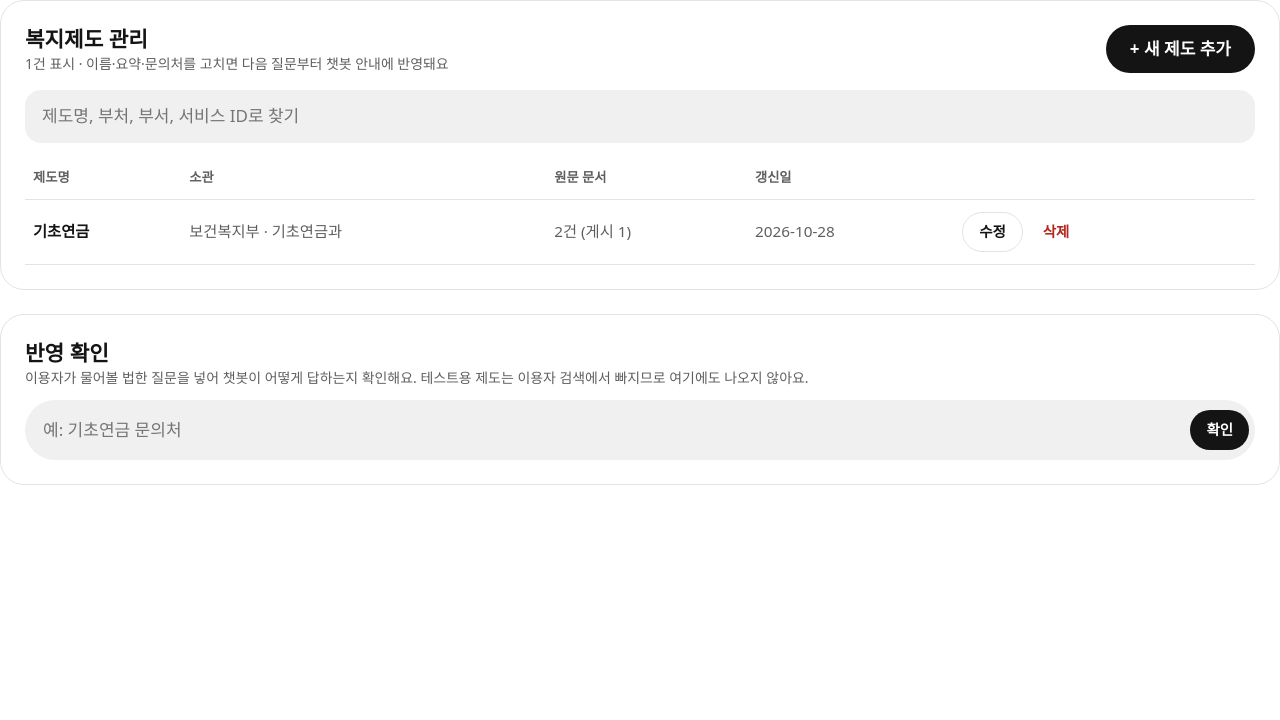
Test case: 제도 관리와 원문 문서 › 서버가 거절한 이유를 쉬운 말로 알려준다
Click the button with aria-label "기초연금 삭제": (1056, 232) [1027,212,1085,252]
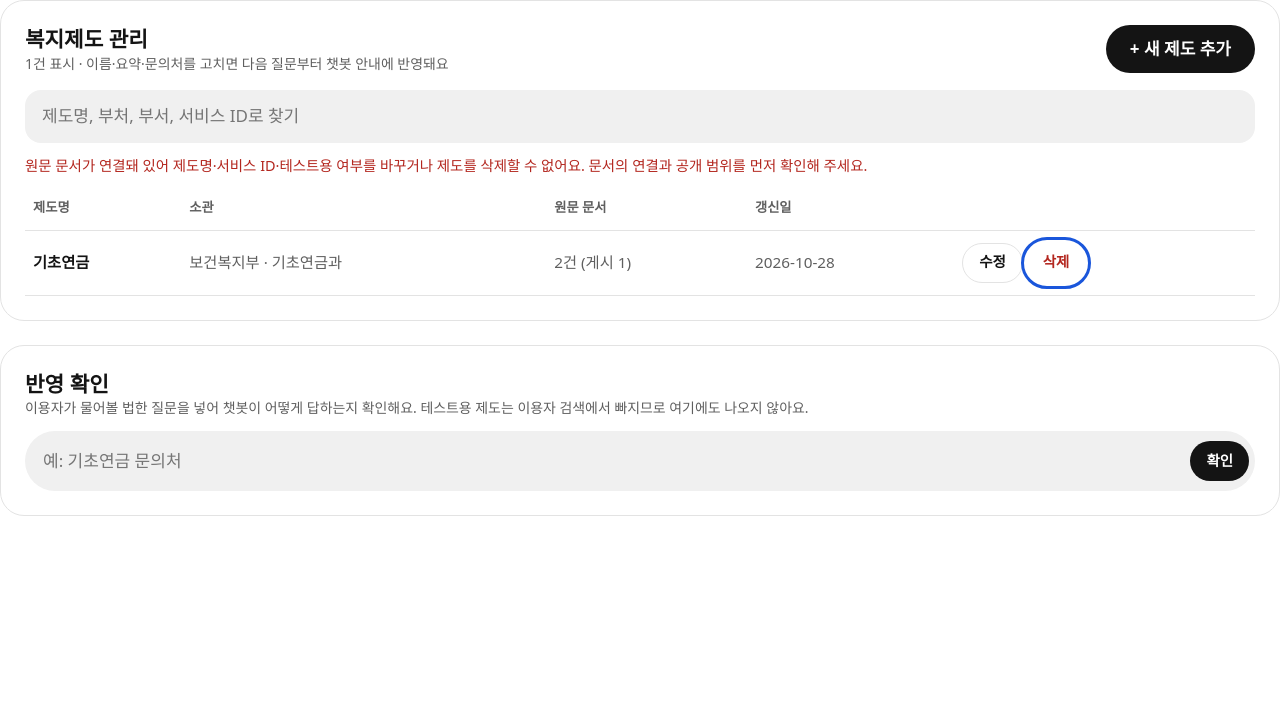
Expected: the button with aria-label "기초연금 수정" is shown, [962,242,1023,282]
Now the message shows "원문 문서가 연결돼 있어", box [25,156,867,175]
